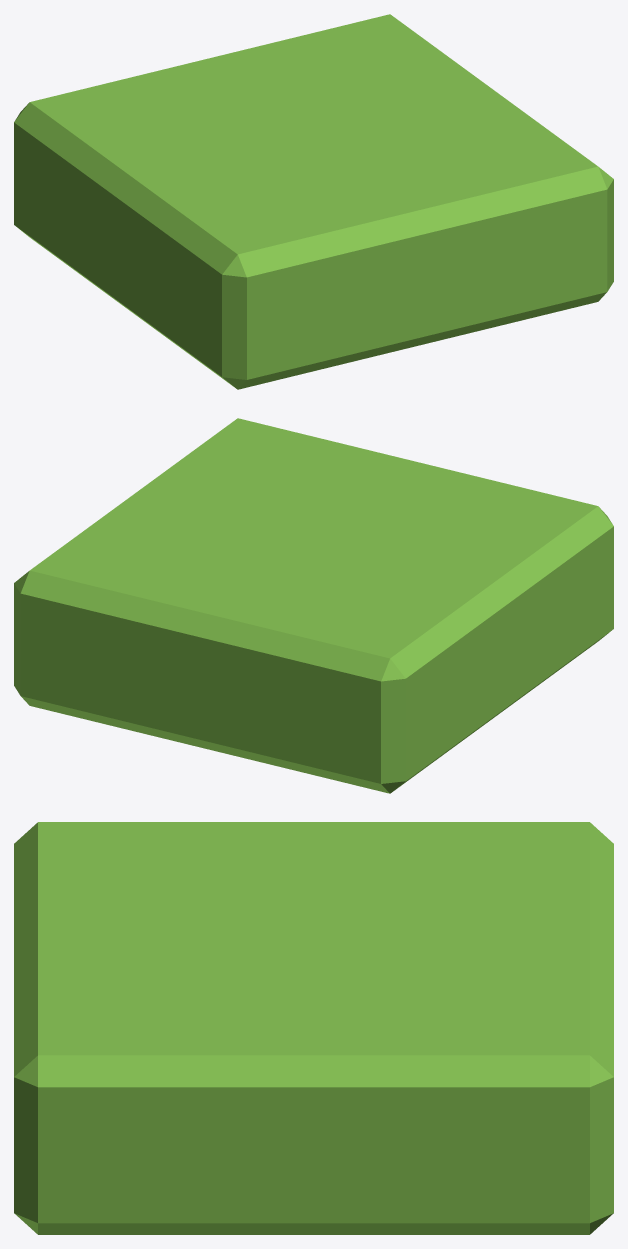
File: TileGrass.glb
The picture shows the model from 3 angles, top to bottom: view 1: azimuth 30°, elevation 25°; view 2: azimuth 150°, elevation 25°; view 3: azimuth 270°, elevation 25°; orthographic projection. The views are drawn at different scales.
Parts seen in each view (by area): view 1: Cube; view 2: Cube; view 3: Cube.
Boxes of the visible parts, x1,y1,x2,y2 form: Cube: (14,14,613,389); Cube: (14,418,613,793); Cube: (14,822,613,1234).
Bounding box in the file's own units: 1 × 0.33 × 1.
